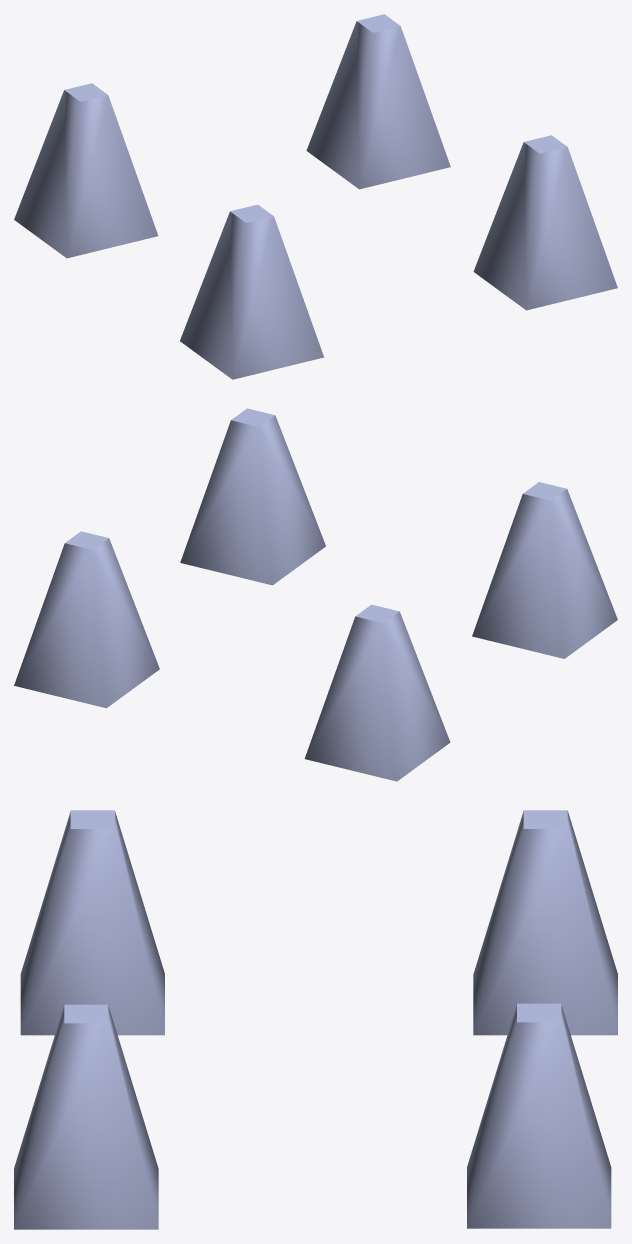
File: spikes.002_lev5.glb
3 views of the same model, one above another, from view 1: azimuth 30°, elevation 25°; view 2: azimuth 150°, elevation 25°; view 3: azimuth 270°, elevation 25° (orthographic). The views are drawn at different scales.
Parts seen in each view (by area): view 1: spikes.002_lev5; view 2: spikes.002_lev5; view 3: spikes.002_lev5.
Part boxes in pixels (x1=…): spikes.002_lev5: x1=14, y1=14, x2=617, y2=379; spikes.002_lev5: x1=14, y1=408, x2=617, y2=781; spikes.002_lev5: x1=14, y1=810, x2=617, y2=1229.
Size of the model in its own units: 2.01 by 0.68 by 2.01.
1 material, 1 textured.
